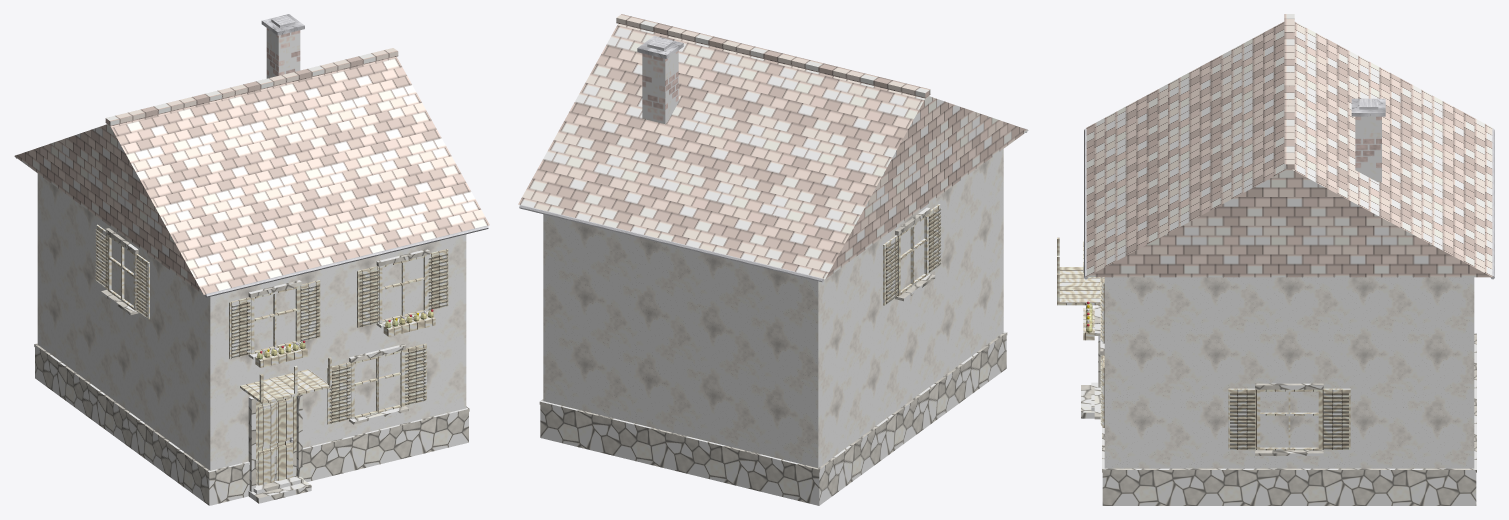
Rendered from casa.obj.
3 views of the same model, side by side, from view 1: azimuth 30°, elevation 25°; view 2: azimuth 150°, elevation 25°; view 3: azimuth 270°, elevation 25° (orthographic). The views are drawn at different scales.
Parts seen in each view (by area): view 1: tegole_002, intonaco_000, pietra_001, legno_017, legno_031, legno_021, legno_007, legno_008, legno_010, legno_044, mattone_004, pietra_009 (+10 smaller); view 2: intonaco_000, tegole_002, pietra_001, mattone_004, legno_044, metallo_003, legno_042, pietra_043; view 3: tegole_002, intonaco_000, pietra_001, legno_040, mattone_004, legno_007, legno_038, metallo_003, pietra_039.
Part boxes in pixels (x1=…): tegole_002: x1=14, y1=48, x2=489, y2=294; intonaco_000: x1=37, y1=173, x2=466, y2=470; pietra_001: x1=34, y1=343, x2=469, y2=505; legno_017: x1=327, y1=343, x2=426, y2=424; legno_031: x1=357, y1=249, x2=448, y2=327; legno_021: x1=229, y1=280, x2=320, y2=358; legno_007: x1=240, y1=357, x2=331, y2=404; legno_008: x1=256, y1=396, x2=296, y2=485; legno_010: x1=261, y1=402, x2=290, y2=485; legno_044: x1=95, y1=224, x2=149, y2=319; mattone_004: x1=266, y1=28, x2=300, y2=78; pietra_009: x1=248, y1=394, x2=302, y2=492; intonaco_000: x1=543, y1=149, x2=1003, y2=468; tegole_002: x1=518, y1=14, x2=1028, y2=279; pietra_001: x1=539, y1=331, x2=1007, y2=505; mattone_004: x1=642, y1=50, x2=678, y2=123; legno_044: x1=883, y1=204, x2=941, y2=305; metallo_003: x1=519, y1=128, x2=1027, y2=282; legno_042: x1=897, y1=214, x2=928, y2=296; pietra_043: x1=895, y1=207, x2=935, y2=301; tegole_002: x1=1086, y1=14, x2=1492, y2=277; intonaco_000: x1=1104, y1=277, x2=1474, y2=468; pietra_001: x1=1102, y1=333, x2=1476, y2=505; legno_040: x1=1228, y1=388, x2=1350, y2=449; mattone_004: x1=1355, y1=116, x2=1381, y2=182; legno_007: x1=1057, y1=237, x2=1100, y2=305; legno_038: x1=1257, y1=389, x2=1321, y2=450; metallo_003: x1=1084, y1=128, x2=1494, y2=279; pietra_039: x1=1255, y1=383, x2=1323, y2=455.
Size of the model in its own units: 6.74 by 7.75 by 8.29.
25 materials, 22 textured.
